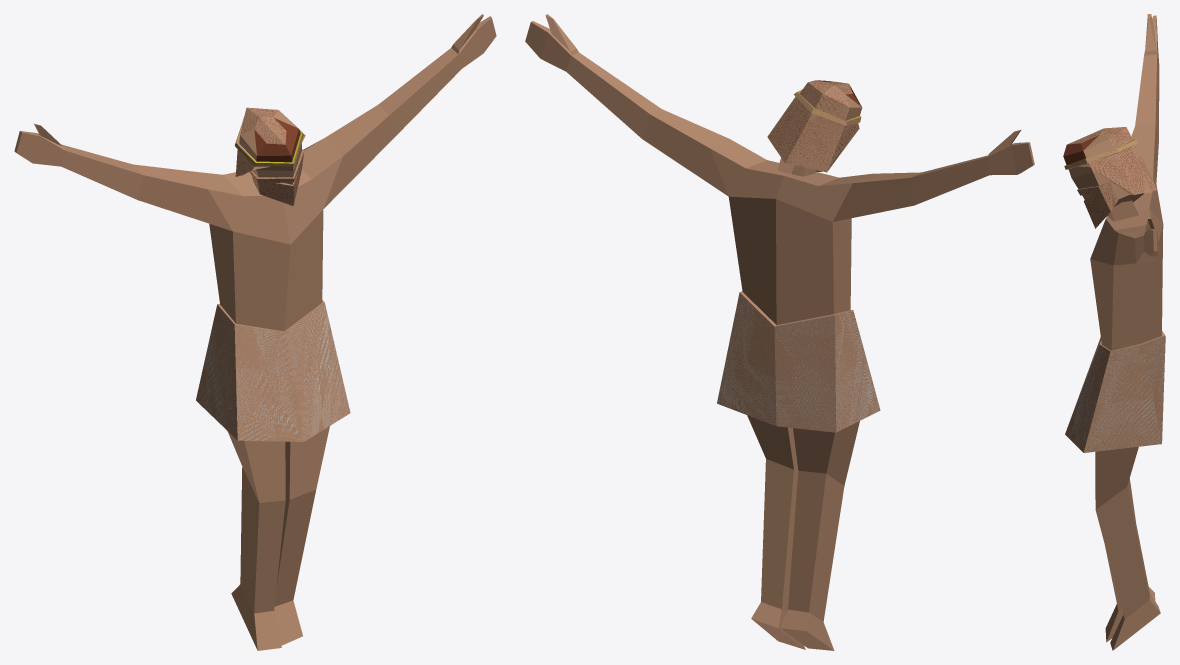
The model's file is Jesus2.fbx.
3 renders of one model, left to right at view 1: azimuth 30°, elevation 25°; view 2: azimuth 150°, elevation 25°; view 3: azimuth 270°, elevation 25°, orthographic. The views are drawn at different scales.
Parts seen in each view (by area): view 1: skinall; view 2: skinall; view 3: skinall.
Boxes of the visible parts, x1=… form: skinall: x1=14, y1=14, x2=496, y2=650; skinall: x1=525, y1=14, x2=1034, y2=650; skinall: x1=1063, y1=14, x2=1165, y2=650.
Size of the model in its own units: 263 by 293 by 51.78.
